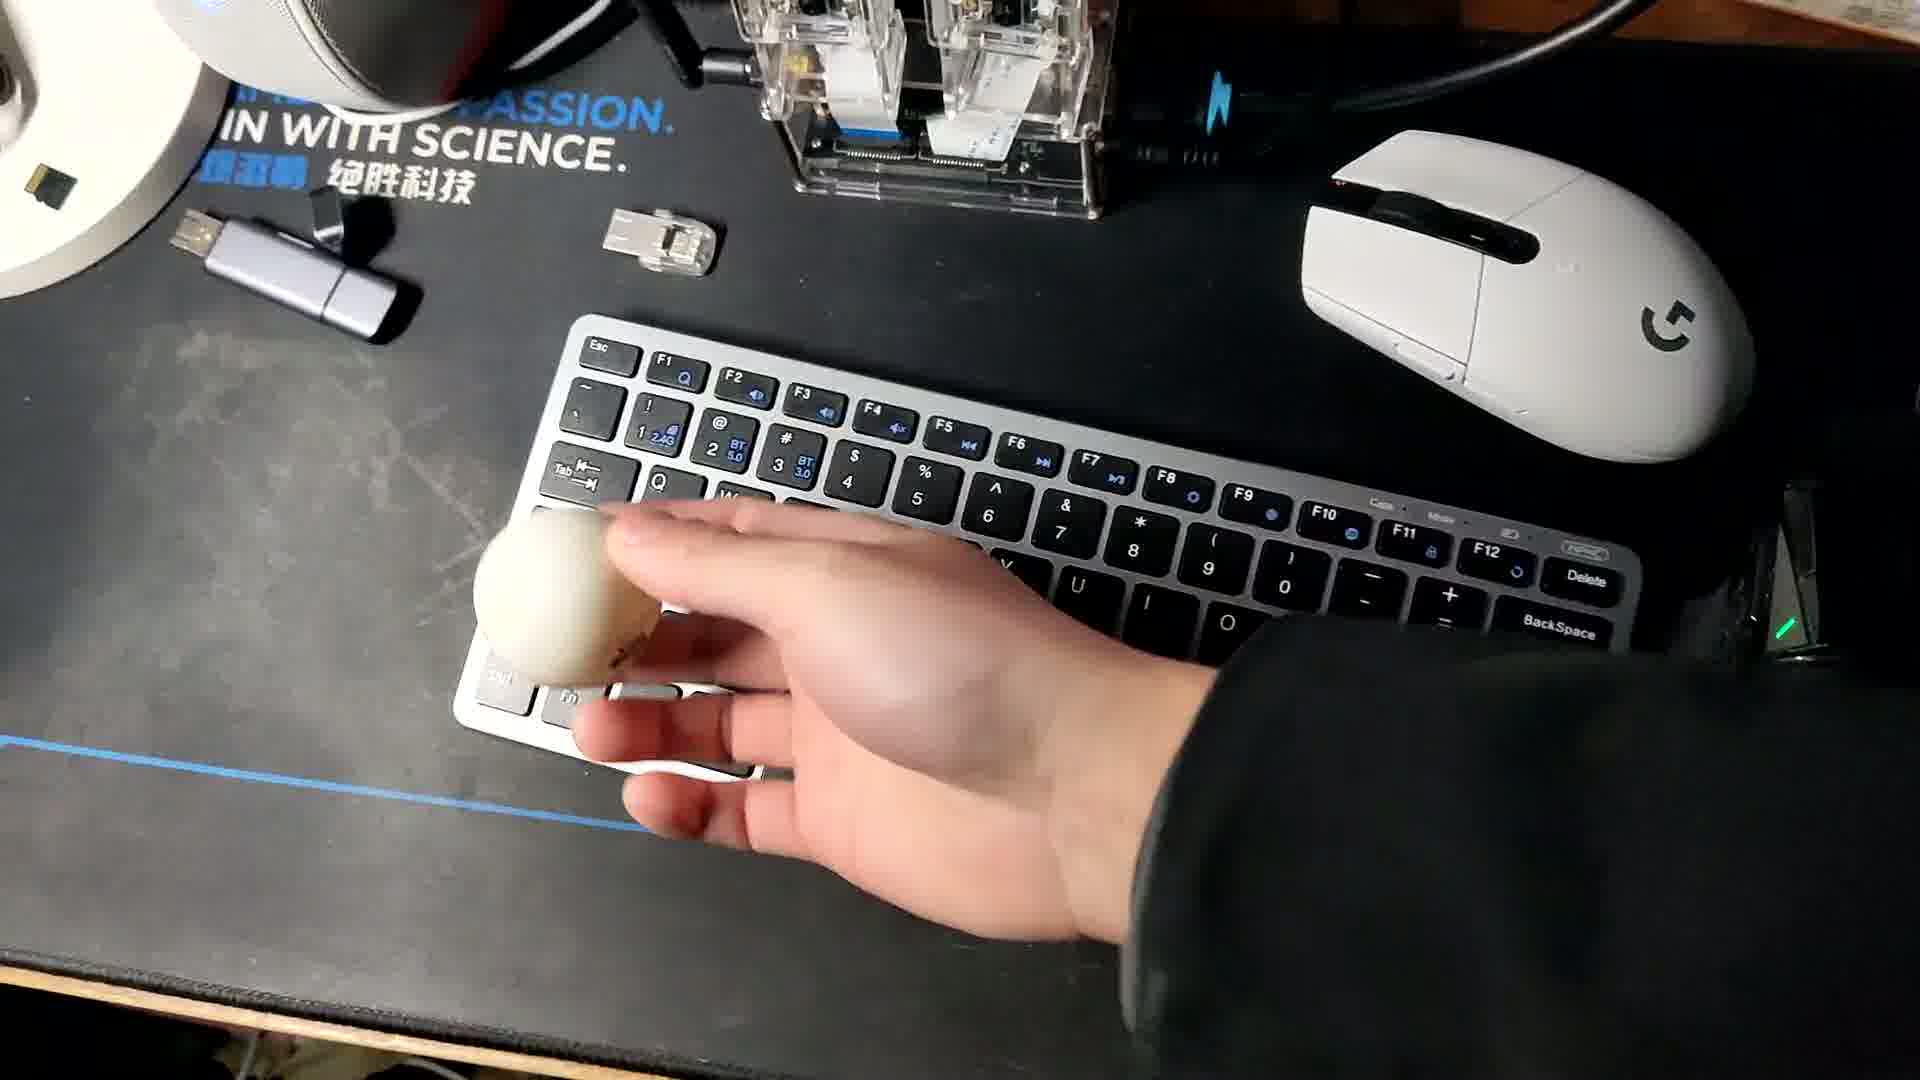Ball: (469, 512, 661, 684)
